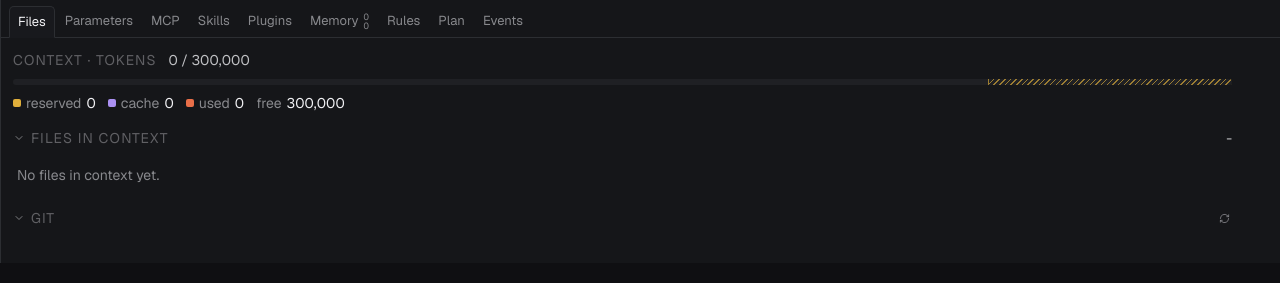
Test case: Session plan history › opens on the session's own plan and shows the plan a row selects
The width and height of the screenshot is (1280, 283).
What coordinates should you click on to do the following:
click the text "Plan"
I would click on:
 (452, 20)
Its box is [438,12,465,29].
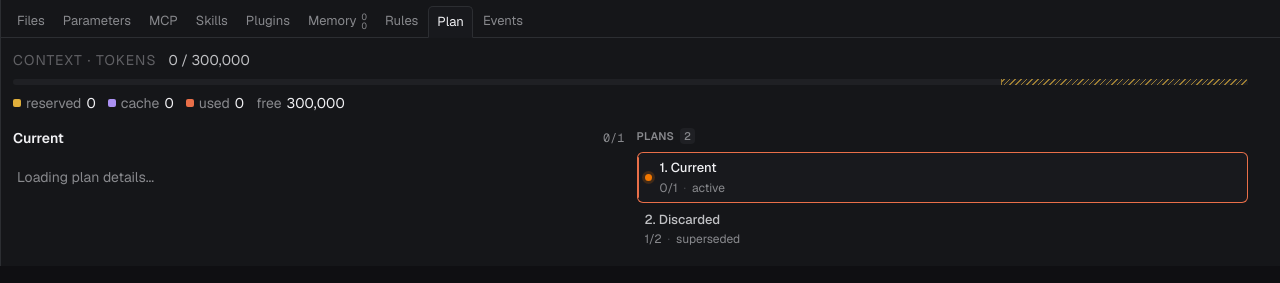
expect the text with class "ctx-section-title" reads "Current": met, box [13,128,64,146]
expect the text "Plans" is shown: met, box [636,128,674,144]
What coordinates should you click on to do the following:
click the button with class "ctx-plan-row" showing "2. Discarded 1/2 · superseded"
I would click on:
 (692, 229)
Its box is [644,210,740,247].
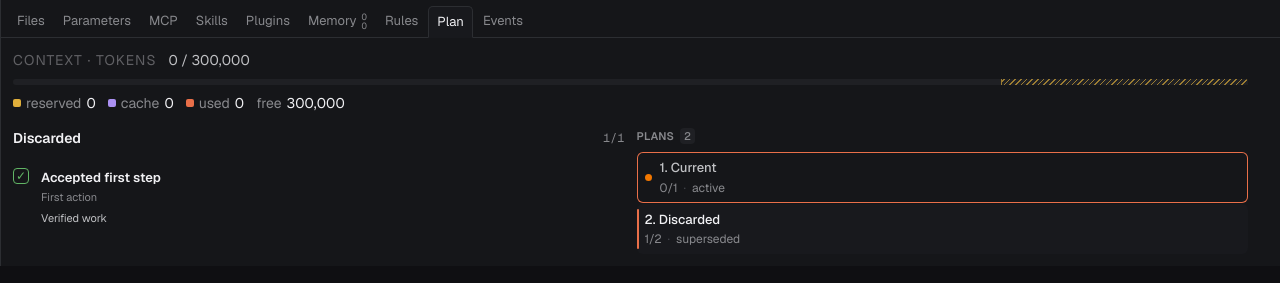
expect the text with class "ctx-section-title" reads "Discarded": met, box [13,128,81,146]
expect the text "Accepted first step" is shown: met, box [41,168,161,186]
expect the text "Verified work" is shown: met, box [41,210,107,224]
